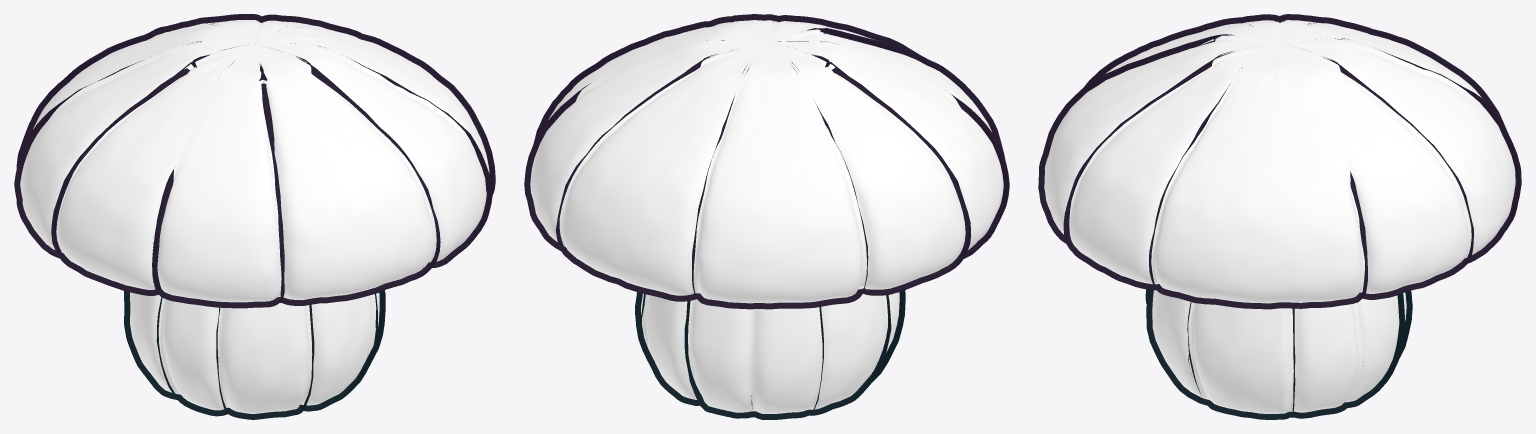
The model's file is mushroom.glb.
The picture shows the model from 3 angles, left to right: view 1: azimuth 30°, elevation 25°; view 2: azimuth 150°, elevation 25°; view 3: azimuth 270°, elevation 25°; orthographic projection.
Parts seen in each view (by area): view 1: mushroomCap, mushroomStem; view 2: mushroomCap, mushroomStem; view 3: mushroomCap, mushroomStem.
Boxes of the visible parts, left/top/right/bottom form: mushroomCap: left=14, top=14, right=495, bottom=308; mushroomStem: left=124, top=290, right=385, bottom=419; mushroomCap: left=524, top=14, right=1009, bottom=309; mushroomStem: left=635, top=290, right=905, bottom=419; mushroomCap: left=1038, top=14, right=1521, bottom=309; mushroomStem: left=1145, top=289, right=1412, bottom=419.
Bounding box in the file's own units: 4.82 × 3.74 × 4.83.
